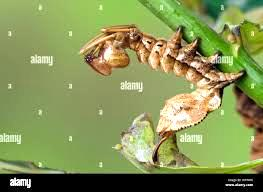Caterpillar: (79, 18, 251, 138)
